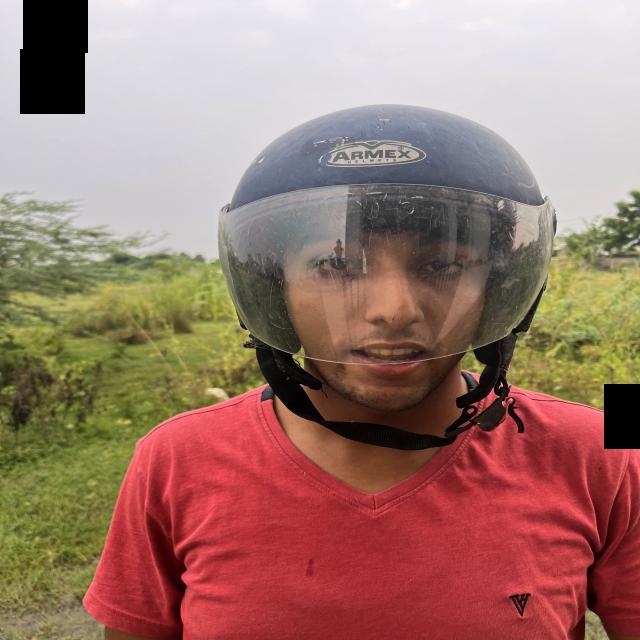Helmet: (218, 105, 553, 364)
